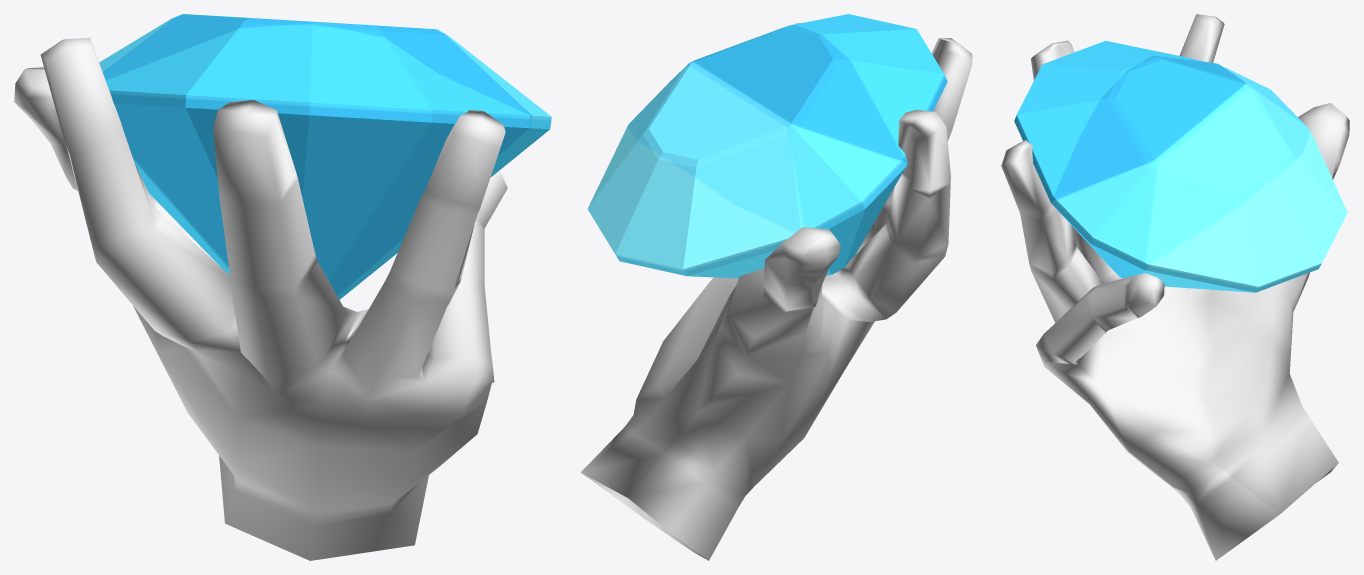
The picture shows the model from 3 angles, left to right: view 1: azimuth 30°, elevation 25°; view 2: azimuth 150°, elevation 25°; view 3: azimuth 270°, elevation 25°; orthographic projection. The views are drawn at different scales.
Parts seen in each view (by area): view 1: BTFDHand; view 2: BTFDHand; view 3: BTFDHand.
Part boxes in pixels (<box>): BTFDHand: <box>14,14,551,560</box>; BTFDHand: <box>581,14,972,560</box>; BTFDHand: <box>1001,14,1349,560</box>.
Size of what is drawn, in the model's own units: 1.2 by 1.6 by 1.15.
2 materials, 2 textured.
